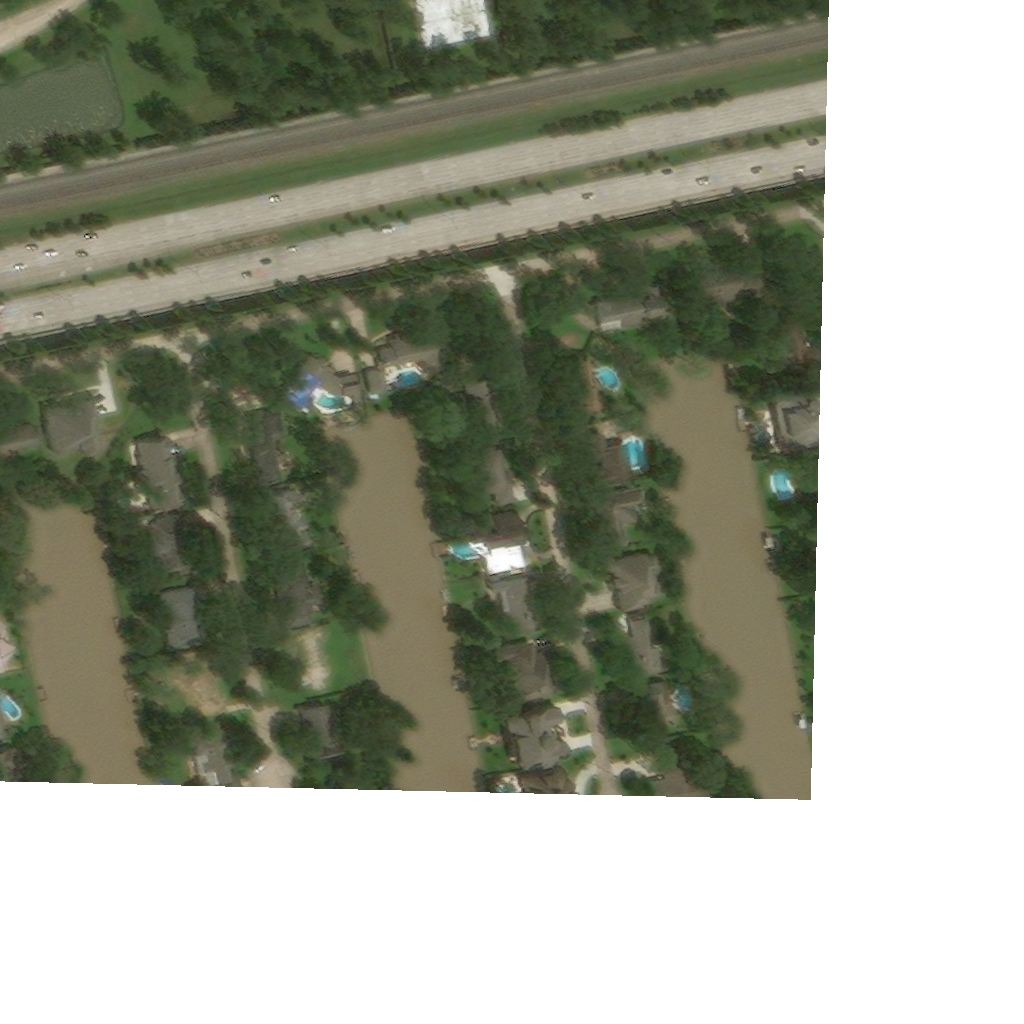minor_damage: (684, 268, 767, 322), (47, 399, 107, 461), (610, 554, 668, 618), (596, 490, 651, 556), (600, 287, 671, 337), (624, 617, 671, 685), (587, 437, 640, 494), (779, 317, 822, 382), (637, 685, 681, 747), (567, 356, 609, 419), (776, 391, 821, 442), (194, 736, 243, 781), (655, 757, 712, 791), (0, 415, 43, 459), (524, 772, 573, 788), (0, 696, 10, 748)
no_damage: (371, 338, 447, 408), (286, 358, 367, 415), (496, 642, 563, 710), (141, 515, 202, 584), (469, 514, 529, 580), (508, 709, 571, 771), (139, 440, 189, 514), (277, 565, 327, 636), (154, 590, 207, 655), (302, 707, 350, 770), (494, 579, 542, 641), (251, 412, 289, 489), (472, 452, 521, 510), (273, 493, 315, 557), (469, 382, 504, 441)
